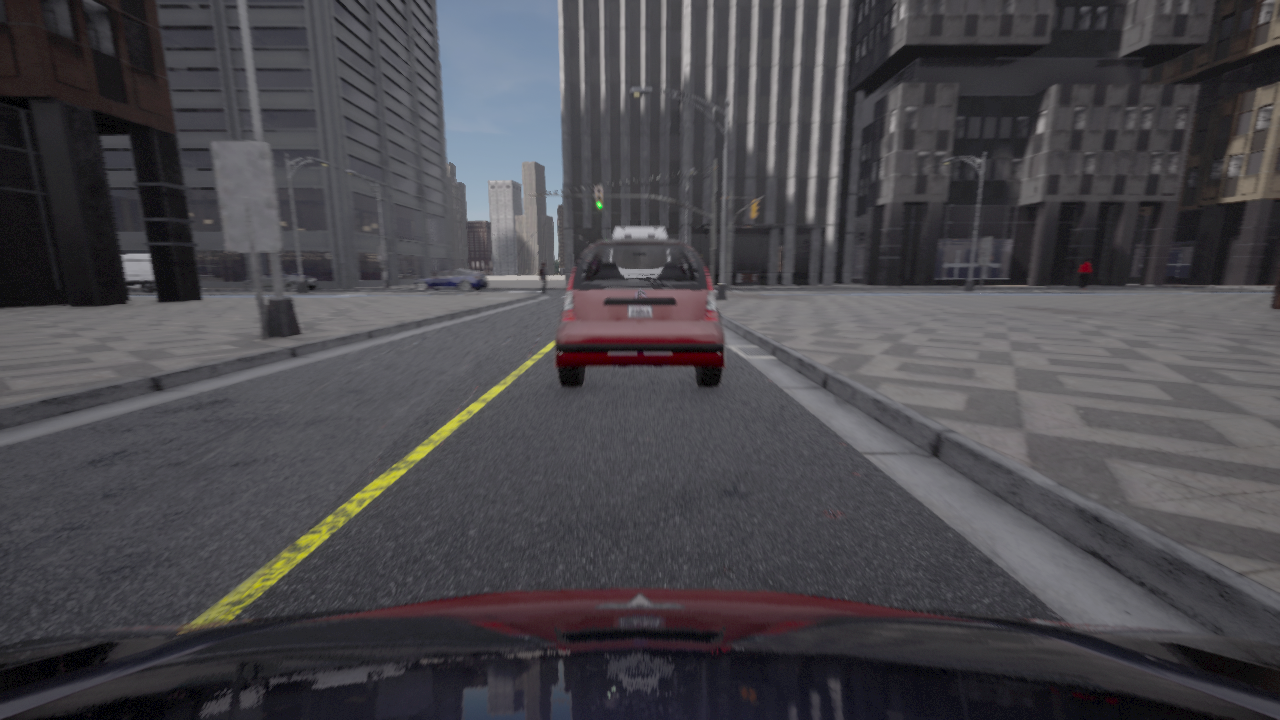cyclist: (0, 588, 1279, 719), (555, 238, 724, 387), (414, 269, 487, 291), (243, 272, 317, 291), (121, 254, 155, 292), (612, 227, 667, 238)
pedestrian: (1078, 259, 1091, 290), (539, 263, 547, 293)
